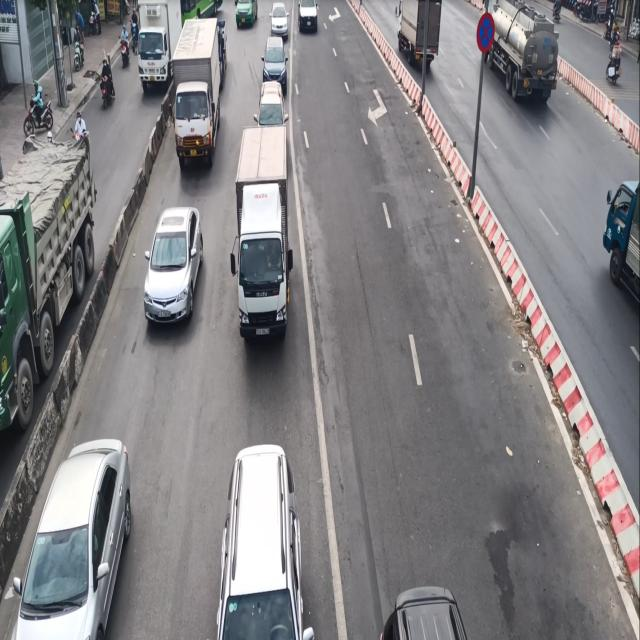car: (9, 424, 140, 640), (141, 195, 199, 337), (259, 33, 290, 87)
motor: (97, 46, 117, 116)
truck: (228, 122, 295, 346), (170, 21, 223, 179)
